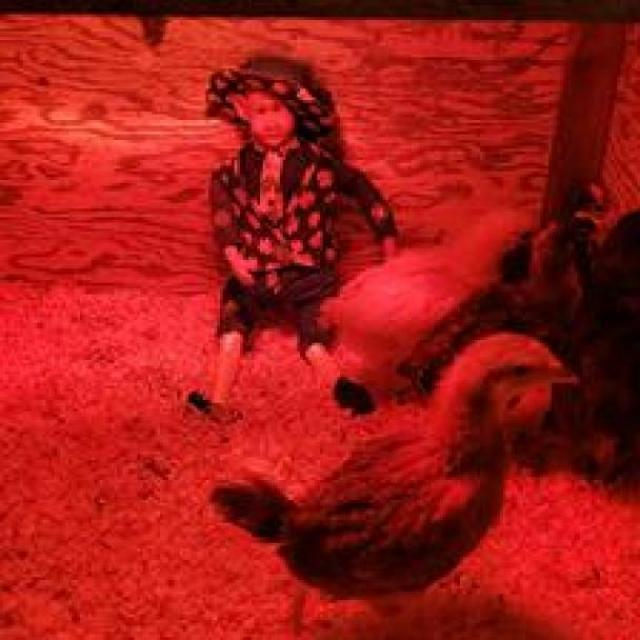Chicken: (225, 337, 610, 627)
